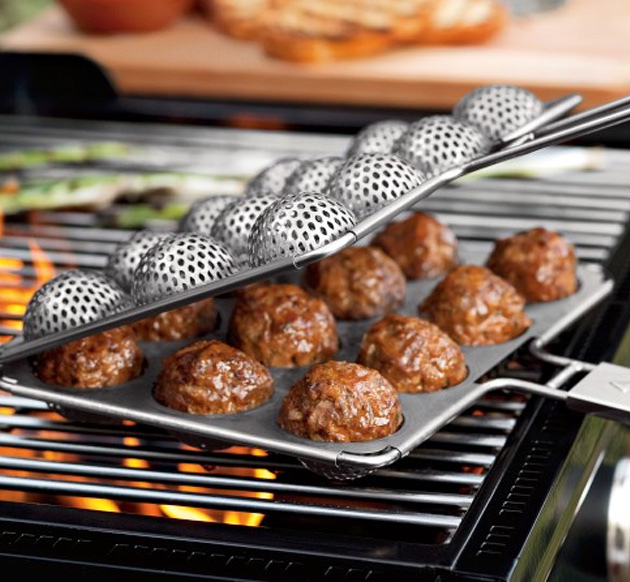meatballs: (268, 372, 419, 433), (238, 283, 338, 371), (425, 270, 524, 350), (156, 343, 270, 410), (367, 323, 463, 388), (487, 229, 572, 300), (327, 252, 405, 318), (387, 221, 448, 280)
